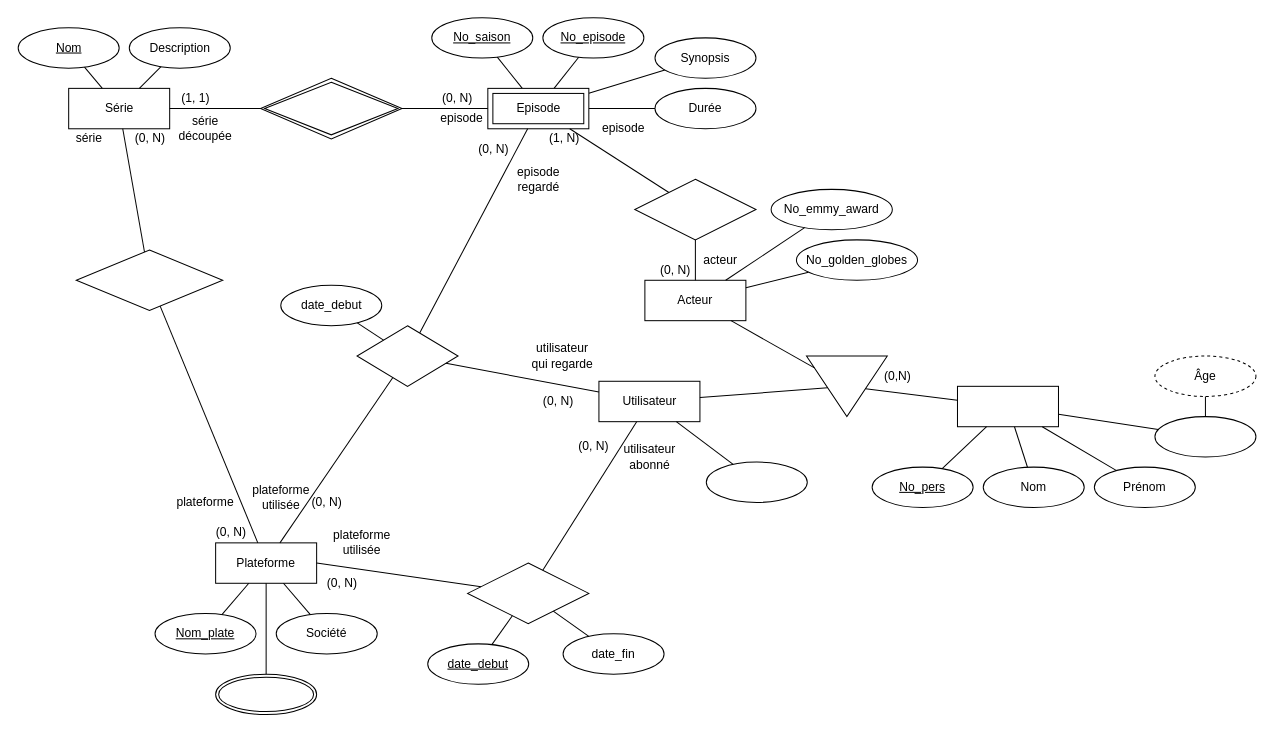
This 1274x732 diagram has some shape labels left out. Here are the shapes that lost their labels. From the top down, the box of each, then its label:
(260, 77, 402, 139): est découpée en
(634, 178, 756, 240): joue dans
(75, 249, 223, 311): est disponible sur
(356, 325, 458, 386): regarde
(805, 355, 887, 417): ISA
(956, 385, 1058, 427): Personne
(1154, 416, 1256, 457): Date_naissance
(705, 461, 807, 502): Email
(467, 562, 589, 624): est abonné à
(215, 673, 317, 715): Pays
